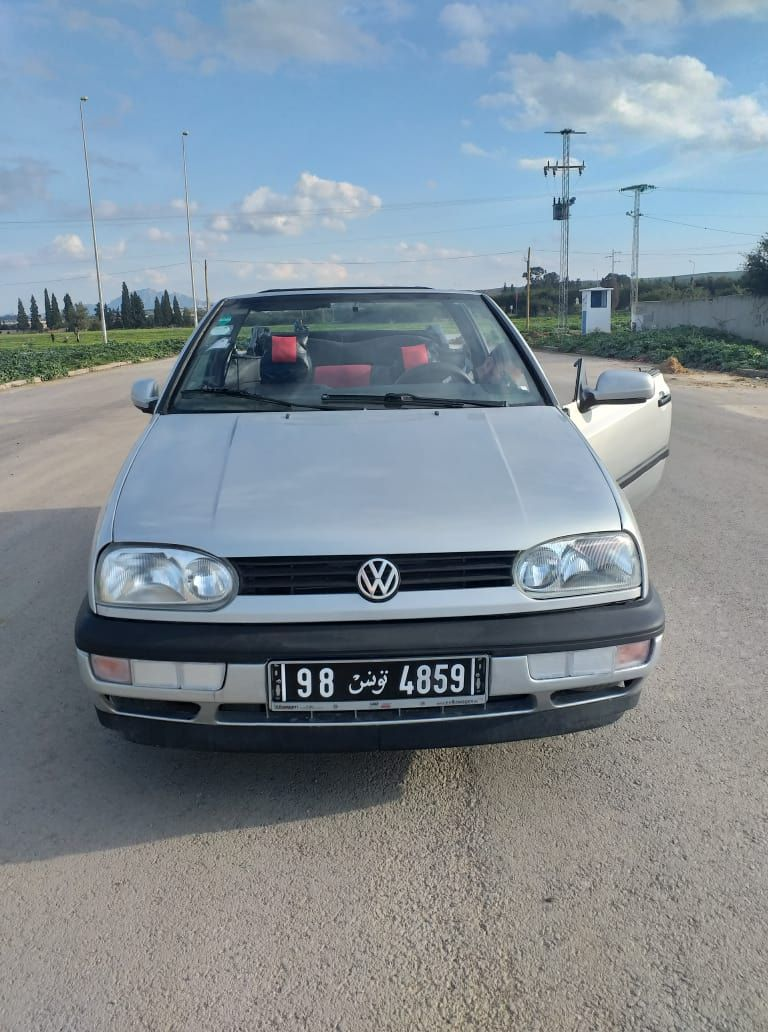LP: (275, 657, 478, 700)
